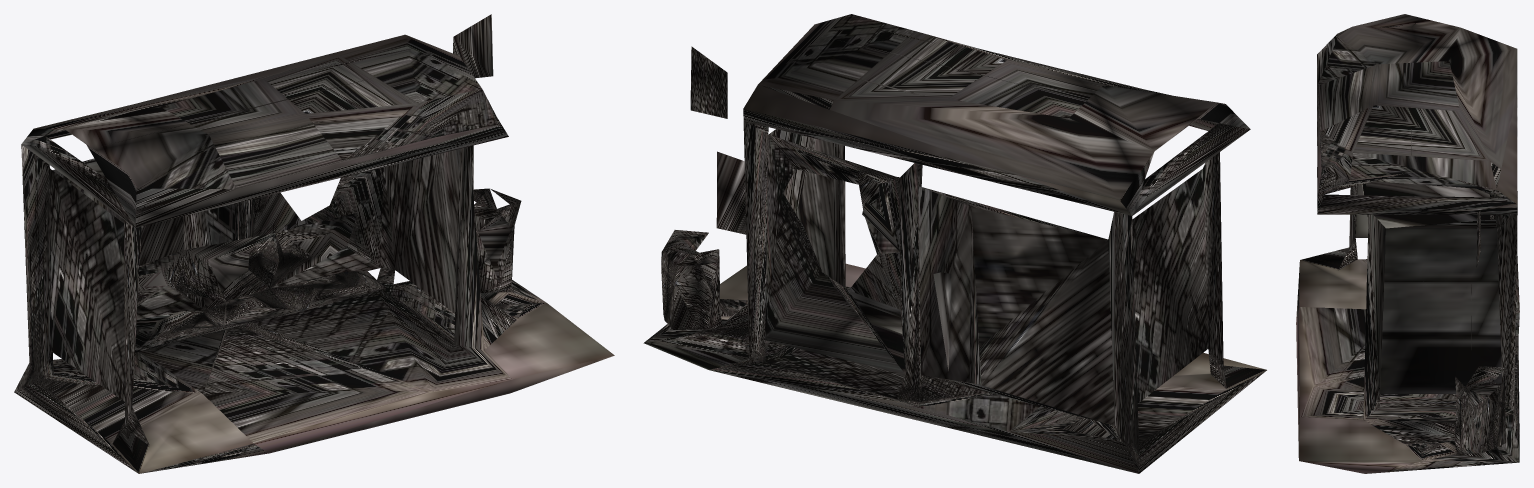
Rendered from busstop.glb.
3 views of the same model, side by side, from view 1: azimuth 30°, elevation 25°; view 2: azimuth 150°, elevation 25°; view 3: azimuth 270°, elevation 25° (orthographic). The views are drawn at different scales.
Parts seen in each view (by area): view 1: busstop; view 2: busstop; view 3: busstop.
Boxes of the visible parts, x1=… form: busstop: x1=14, y1=14, x2=614, y2=473; busstop: x1=643, y1=14, x2=1266, y2=473; busstop: x1=1296, y1=14, x2=1519, y2=473.
Bounding box in the file's own units: 10.28 × 5.98 × 4.72.
1 material, 1 textured.
